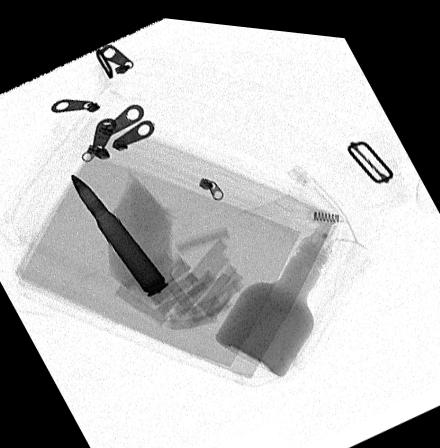Bullet: (68, 171, 169, 293)
